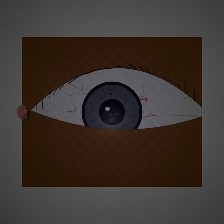pterygium_lesion: (154, 93, 202, 131)
